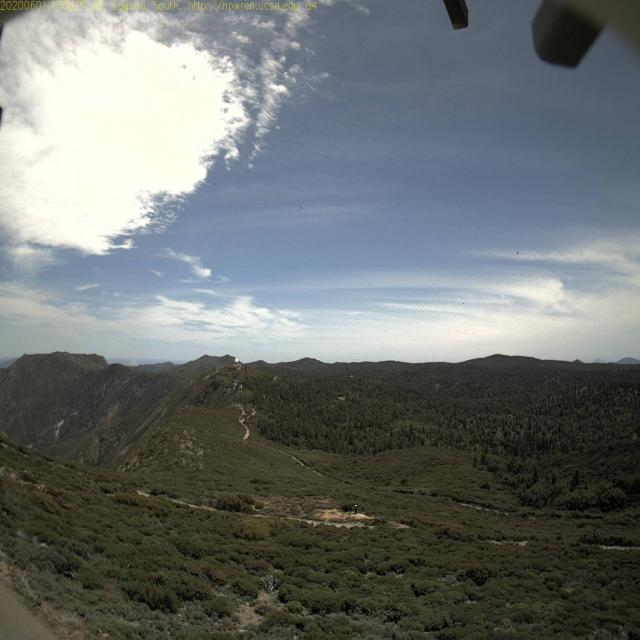smoke: (125, 347, 138, 365)
